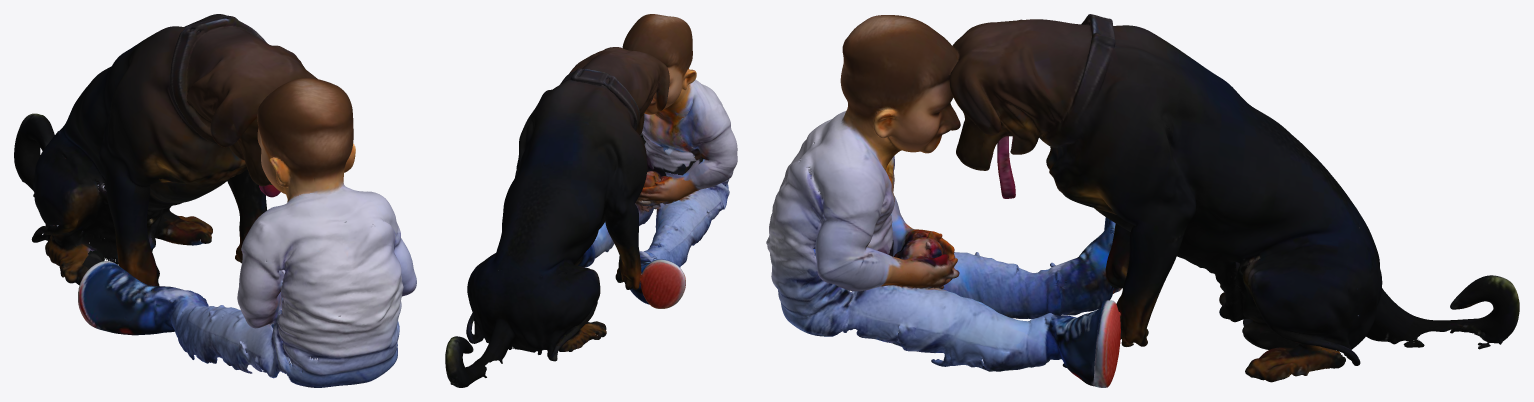
Rendered from INFANTE1.fbx.
3 renders of one model, left to right at view 1: azimuth 30°, elevation 25°; view 2: azimuth 150°, elevation 25°; view 3: azimuth 270°, elevation 25°, orthographic. The views are drawn at different scales.
Parts seen in each view (by area): view 1: tripo_node_2e8fd9c9; view 2: tripo_node_2e8fd9c9; view 3: tripo_node_2e8fd9c9.
Part boxes in pixels (box(x1,y1,x2,y2)): tripo_node_2e8fd9c9: box(14, 14, 416, 387); tripo_node_2e8fd9c9: box(445, 14, 737, 387); tripo_node_2e8fd9c9: box(766, 14, 1519, 387).
Size of the model in its own units: 40.98 by 47.16 by 100.
1 material, 1 textured.
